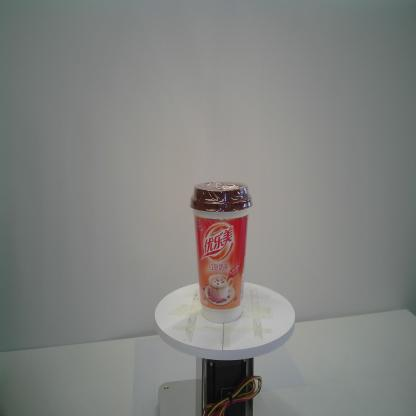Instant Drink: (189, 179, 254, 324)
